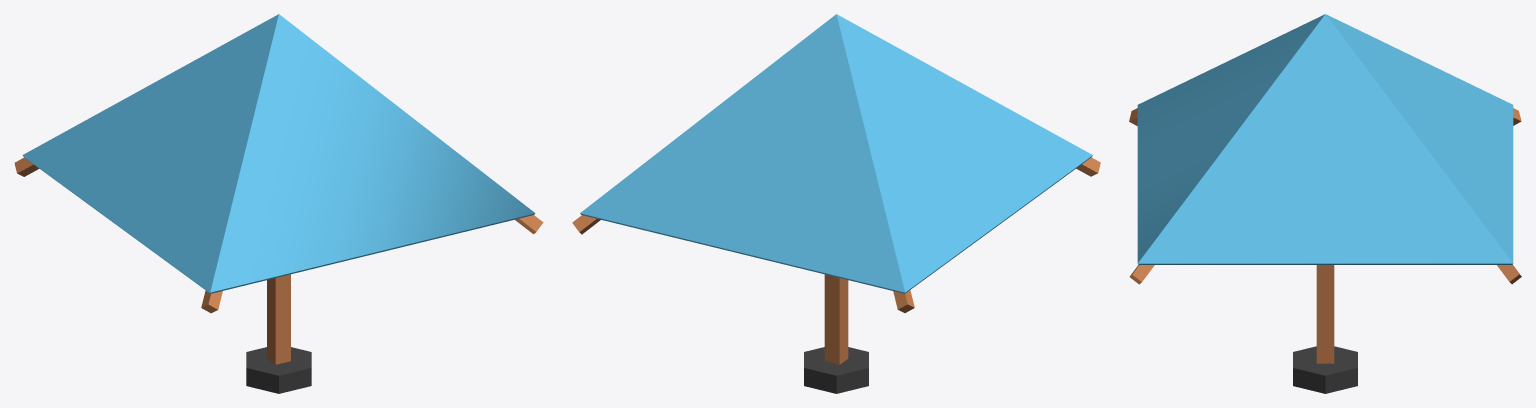
The model's file is shade_blue.fbx.
The picture shows the model from 3 angles, left to right: view 1: azimuth 30°, elevation 25°; view 2: azimuth 150°, elevation 25°; view 3: azimuth 270°, elevation 25°; orthographic projection.
Visible parts, largest first — view 1: Box296, Box298; view 2: Box296, Box298; view 3: Box296, Box298.
Boxes of the visible parts, <box> form: Box296: <box>14,14,543,313</box>; Box298: <box>246,274,311,393</box>; Box296: <box>572,14,1100,312</box>; Box298: <box>804,274,868,393</box>; Box296: <box>1129,14,1521,284</box>; Box298: <box>1293,265,1357,393</box>.
Size of the model in its own units: 314 by 321 by 314.
1 material, 1 textured.
